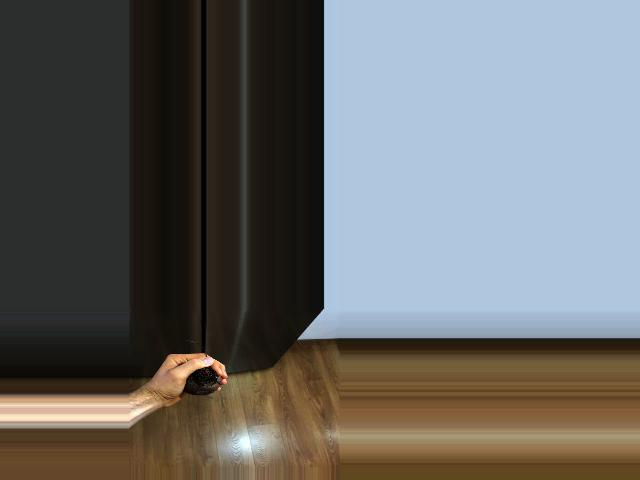beet: (183, 339, 222, 395)
